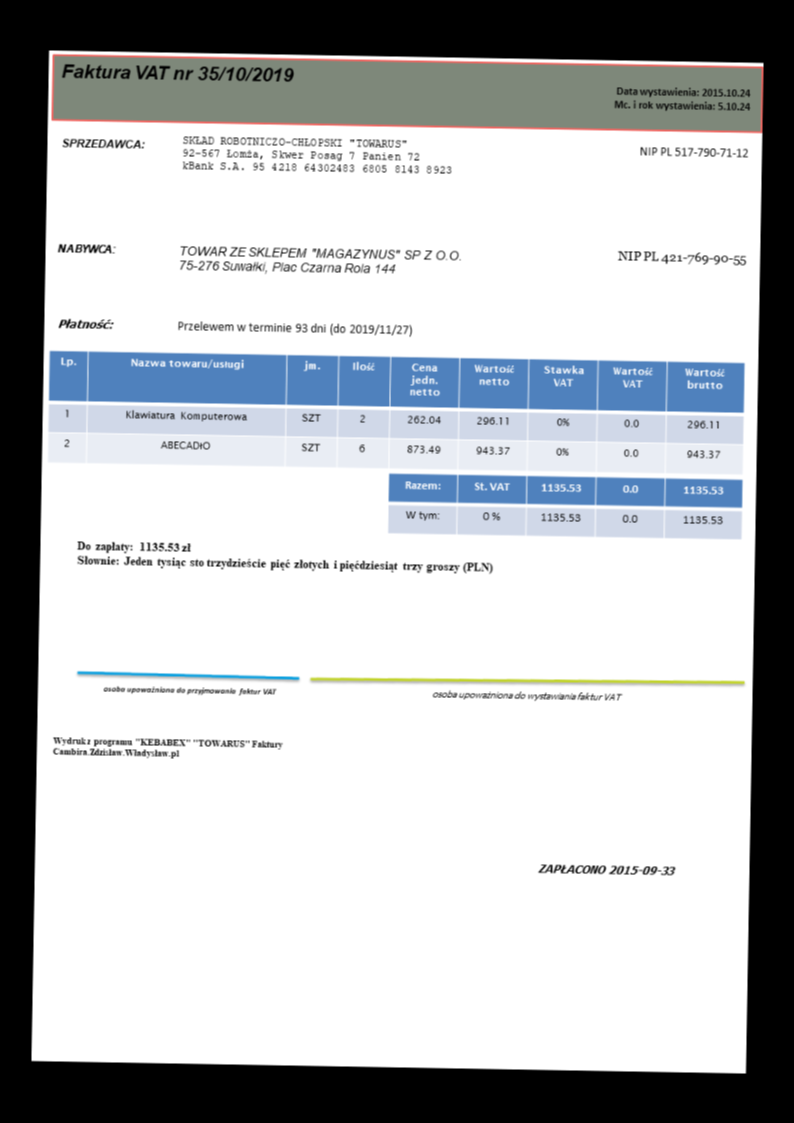Table: (46, 349, 745, 475), (386, 471, 744, 540)
TextBox: (73, 536, 496, 576), (179, 132, 453, 176), (176, 242, 466, 278), (49, 733, 286, 762), (59, 60, 296, 85), (175, 318, 412, 336), (611, 84, 753, 113), (430, 687, 625, 703), (616, 247, 748, 267), (100, 683, 278, 697), (536, 860, 676, 877), (636, 142, 750, 160), (59, 135, 146, 152), (55, 240, 115, 256), (56, 316, 115, 331)
